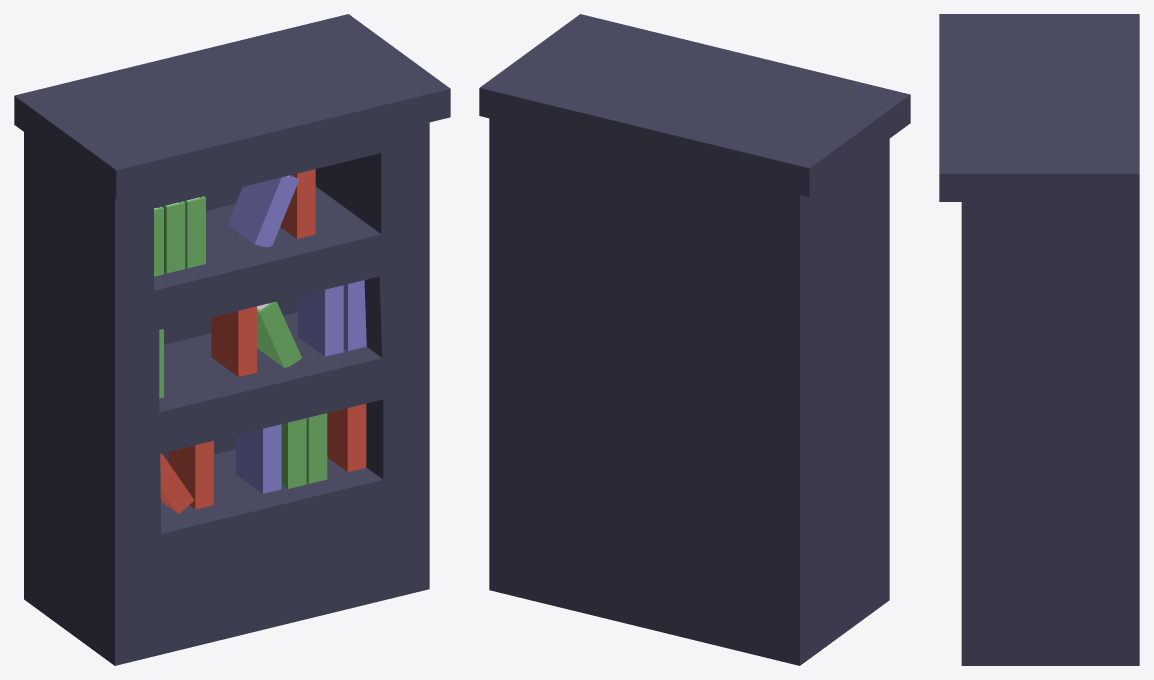
The model's file is maidstage2_booktana.fbx.
3 views of the same model, side by side, from view 1: azimuth 30°, elevation 25°; view 2: azimuth 150°, elevation 25°; view 3: azimuth 270°, elevation 25° (orthographic).
Visible parts, largest first — view 1: tana, book.008, book.006, book.004, book.007, book, book.001, book.012, book.003, book.009, book.005, book.014 (+4 smaller); view 2: tana; view 3: tana.
Part boxes in pixels (x1=…): tana: x1=14, y1=14, x2=450, y2=665; book.008: x1=227, y1=175, x2=299, y2=247; book.006: x1=298, y1=285, x2=343, y2=356; book.004: x1=211, y1=306, x2=256, y2=376; book.007: x1=236, y1=424, x2=281, y2=493; book: x1=327, y1=403, x2=366, y2=472; book.001: x1=168, y1=441, x2=213, y2=509; book.012: x1=257, y1=301, x2=301, y2=367; book.003: x1=280, y1=169, x2=315, y2=238; book.009: x1=281, y1=418, x2=306, y2=488; book.005: x1=343, y1=280, x2=366, y2=350; book.014: x1=162, y1=201, x2=185, y2=273; tana: x1=479, y1=14, x2=910, y2=665; tana: x1=939, y1=14, x2=1139, y2=665.
Bounding box in the file's own units: 850 × 1230 × 450.
